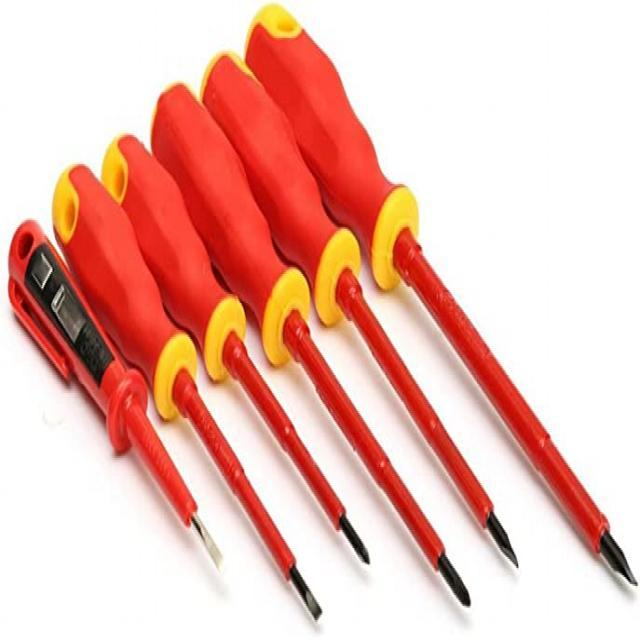screwdriver: (243, 0, 638, 590), (144, 71, 474, 610), (200, 42, 526, 570), (46, 161, 325, 623), (96, 130, 374, 568), (5, 214, 226, 578)
